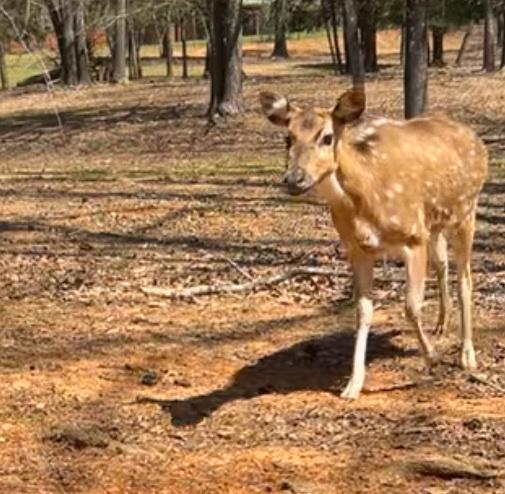Deer: (259, 88, 488, 399)
